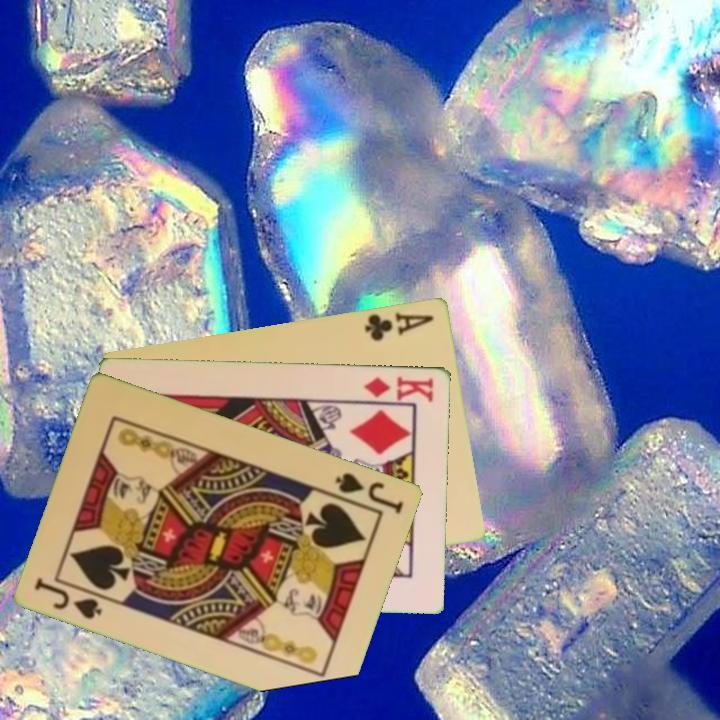Ac: (361, 308, 437, 343)
Js: (31, 573, 112, 622), (332, 468, 407, 517)
Kd: (361, 372, 437, 404)
